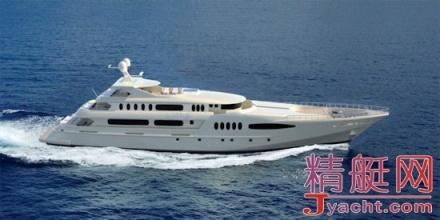yacht: (29, 58, 399, 152)
